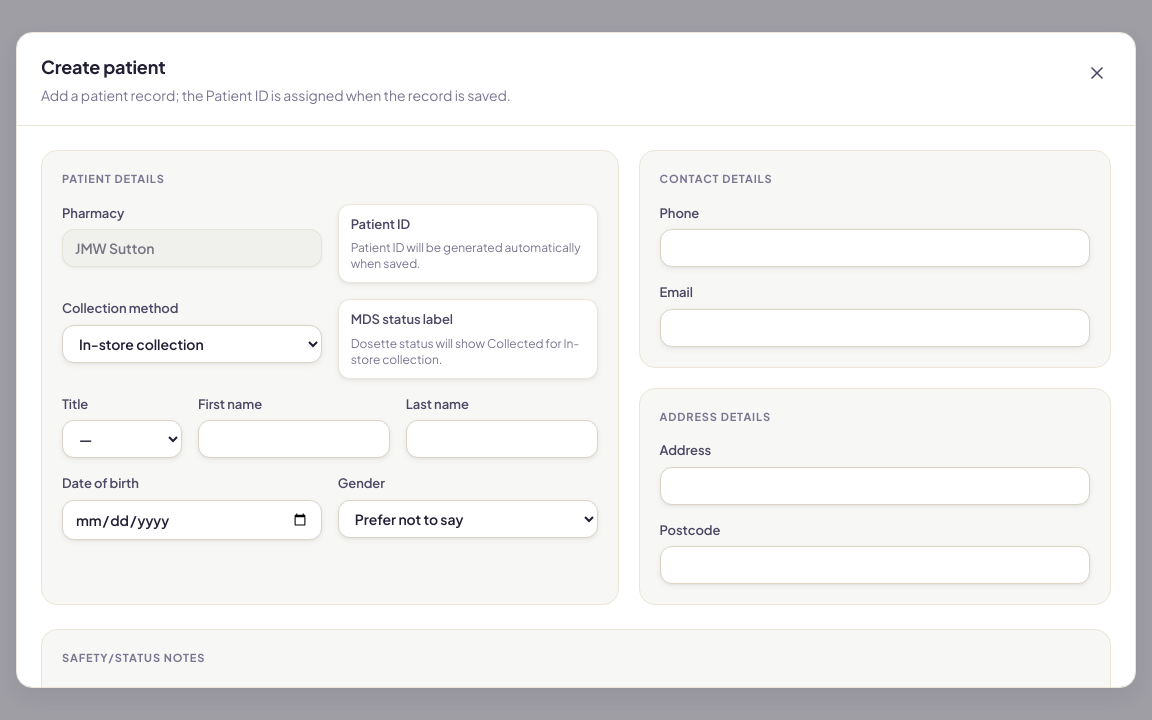
Test: PatientFormModal › renders backend field errors
In the field labelled "First name": (294, 439) x1=198 y1=420 x2=390 y2=458, type "Clara"
In the field labelled "Last name": (502, 439) x1=406 y1=420 x2=598 y2=458, type "Demo"
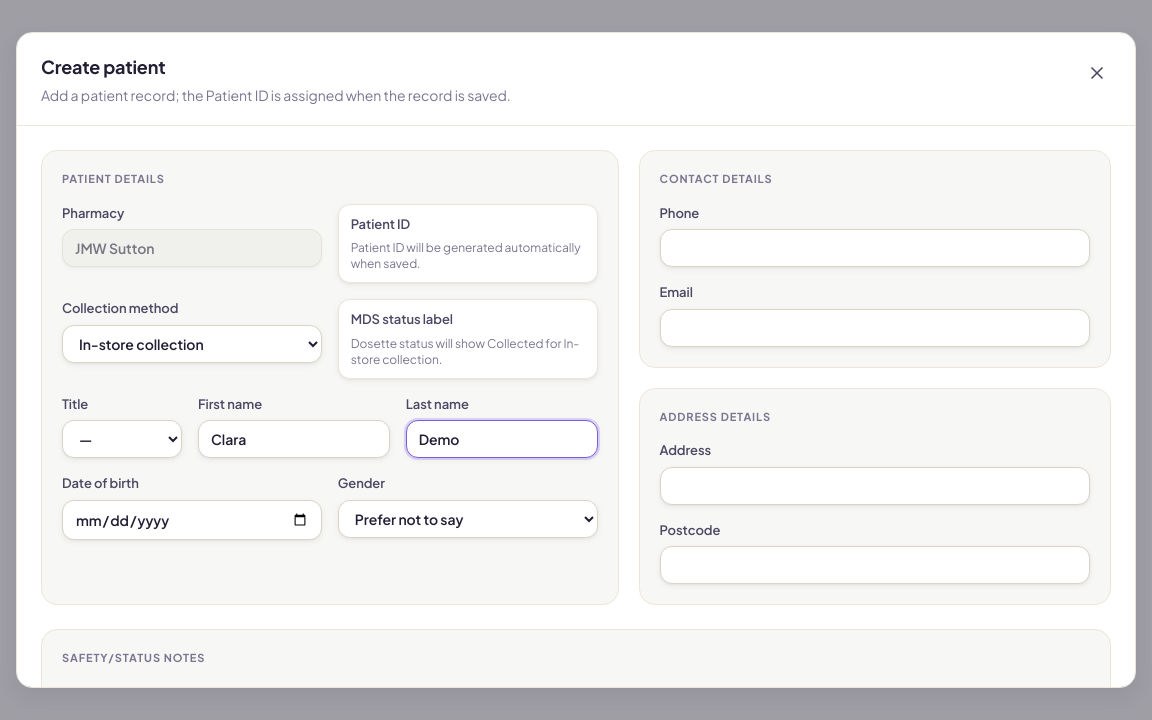
In the date field labelled "Date of birth": (192, 520) x1=62 y1=500 x2=322 y2=540, type "1990-02-03"
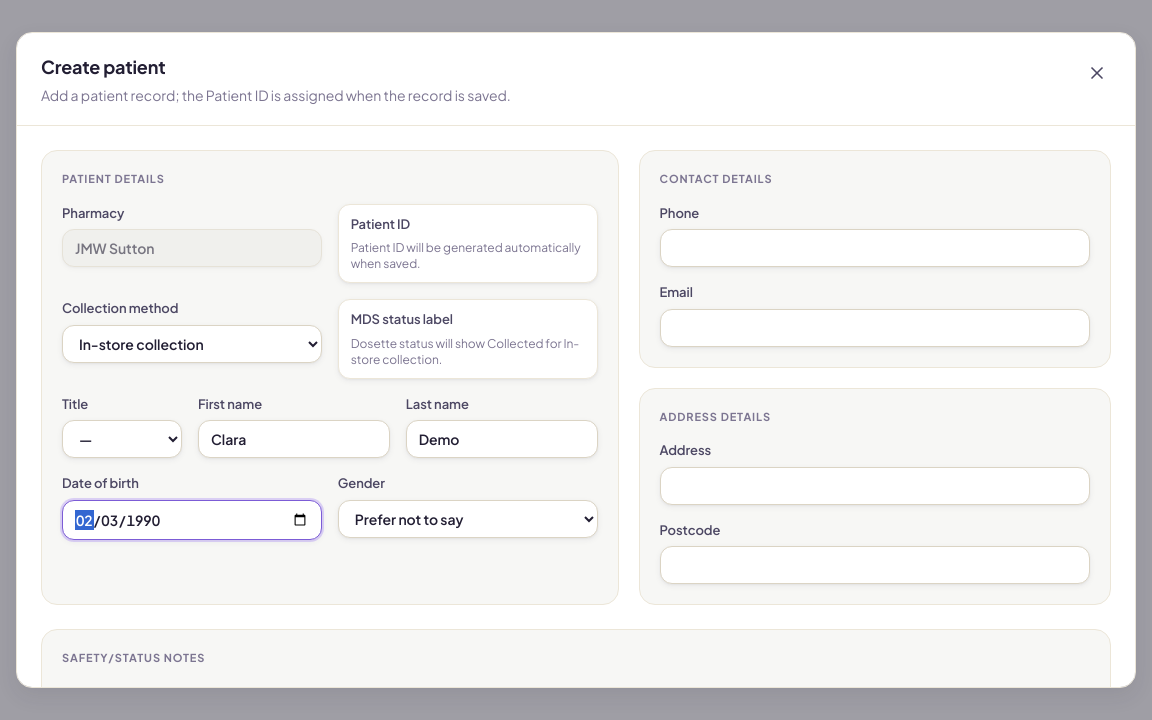
In the field labelled "Address": (875, 486) x1=660 y1=466 x2=1090 y2=504, type "2 Demo Street"
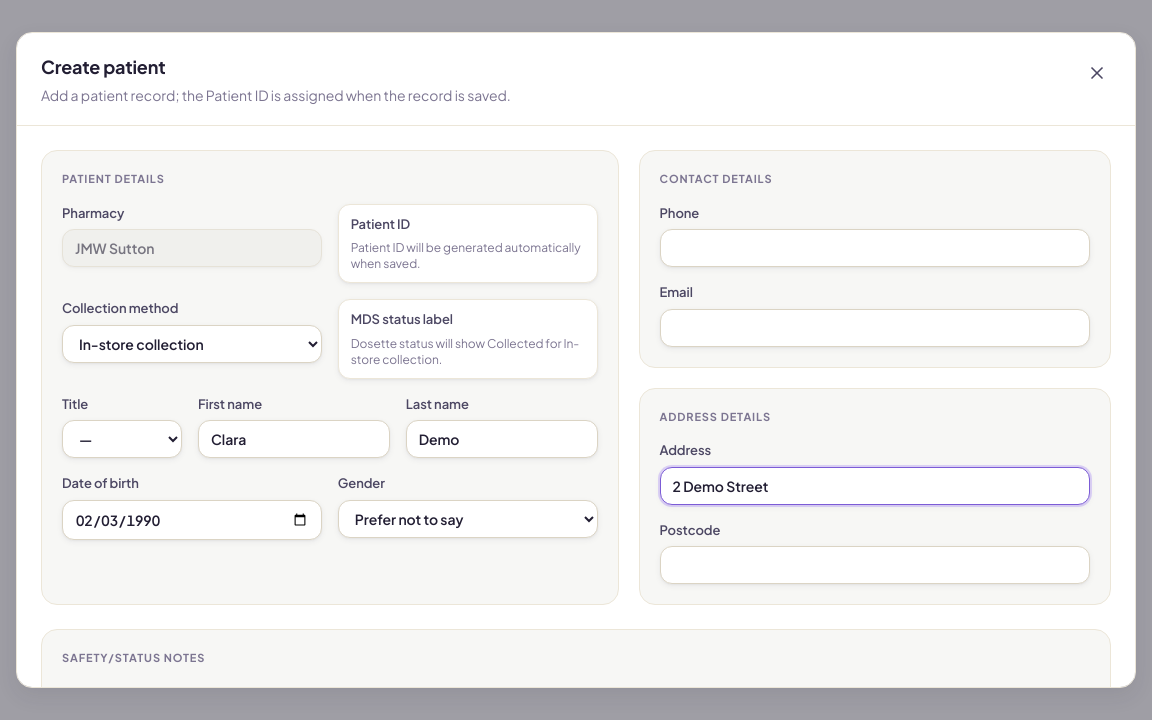
In the field labelled "Postcode": (875, 565) x1=660 y1=546 x2=1090 y2=584, type "SM2 2AA"
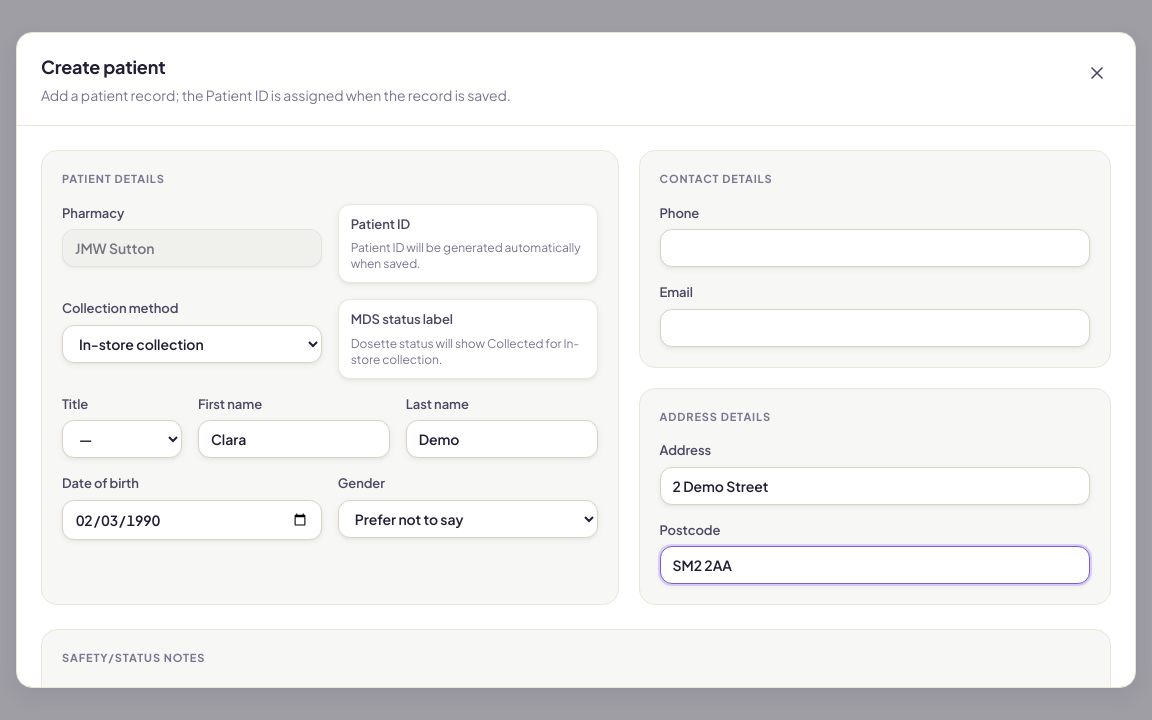
In the field labelled "Phone": (875, 248) x1=660 y1=229 x2=1090 y2=267, type "020 0000 0002"
(page scrolled)
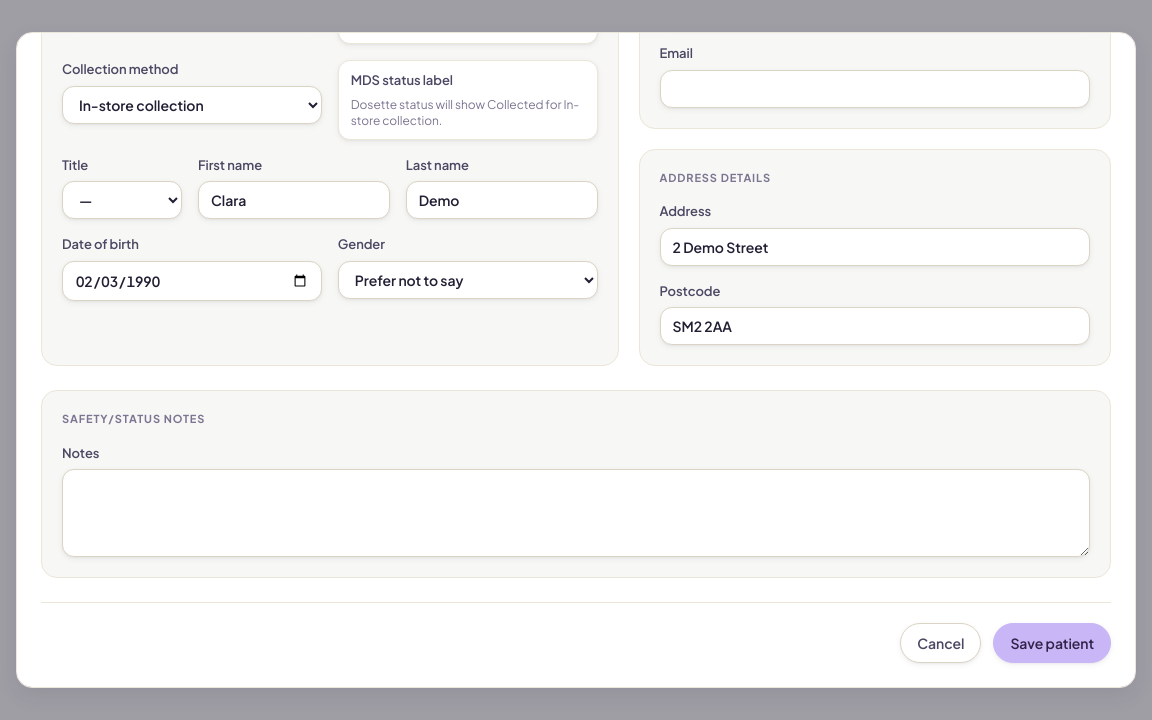
In the text box labelled "Notes": (576, 513) x1=62 y1=469 x2=1090 y2=557, type "Create note"
Click the button "Save patient": (1052, 643) x1=994 y1=623 x2=1111 y2=663
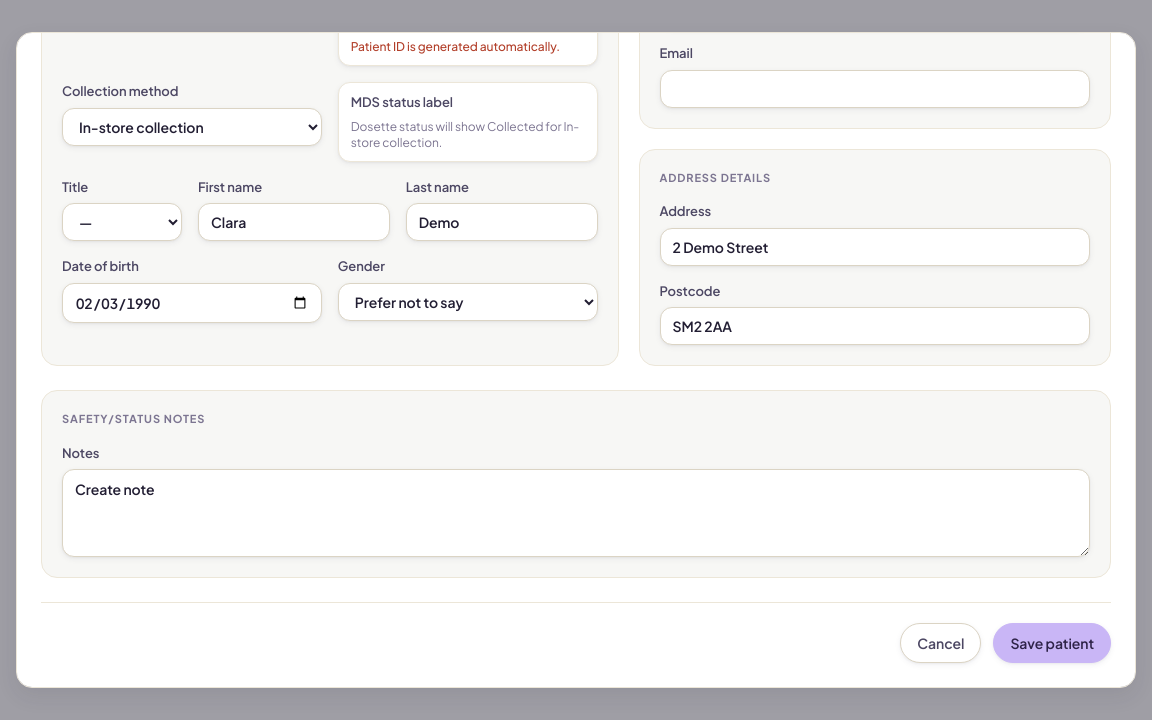
Result: the list item "Patient ID is generated automatically." is shown at x1=351 y1=39 x2=585 y2=55
